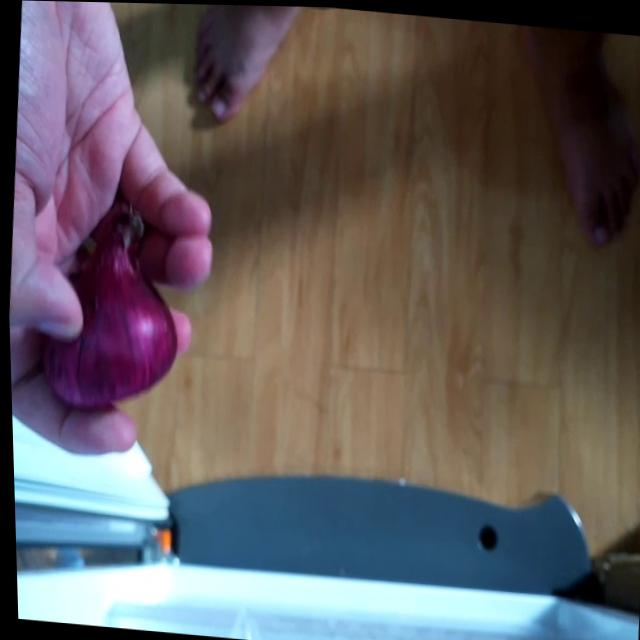onion: (28, 201, 183, 411)
